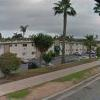Tree: (49, 1, 88, 25)
